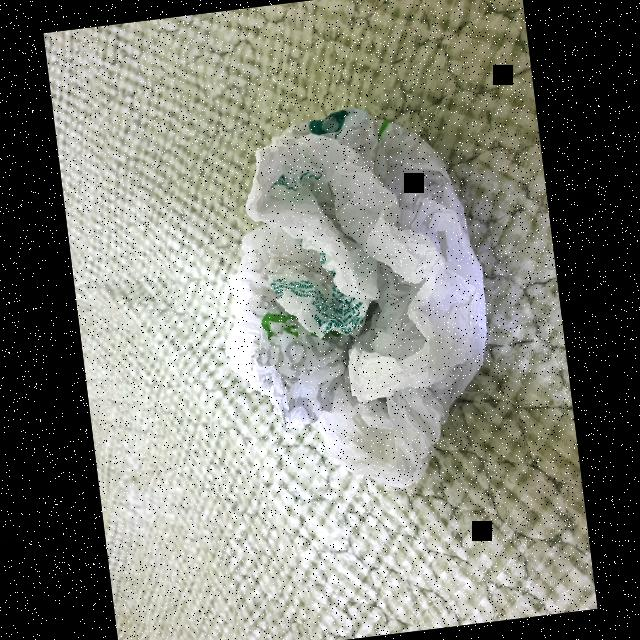plastic_bag: (188, 87, 514, 520)
